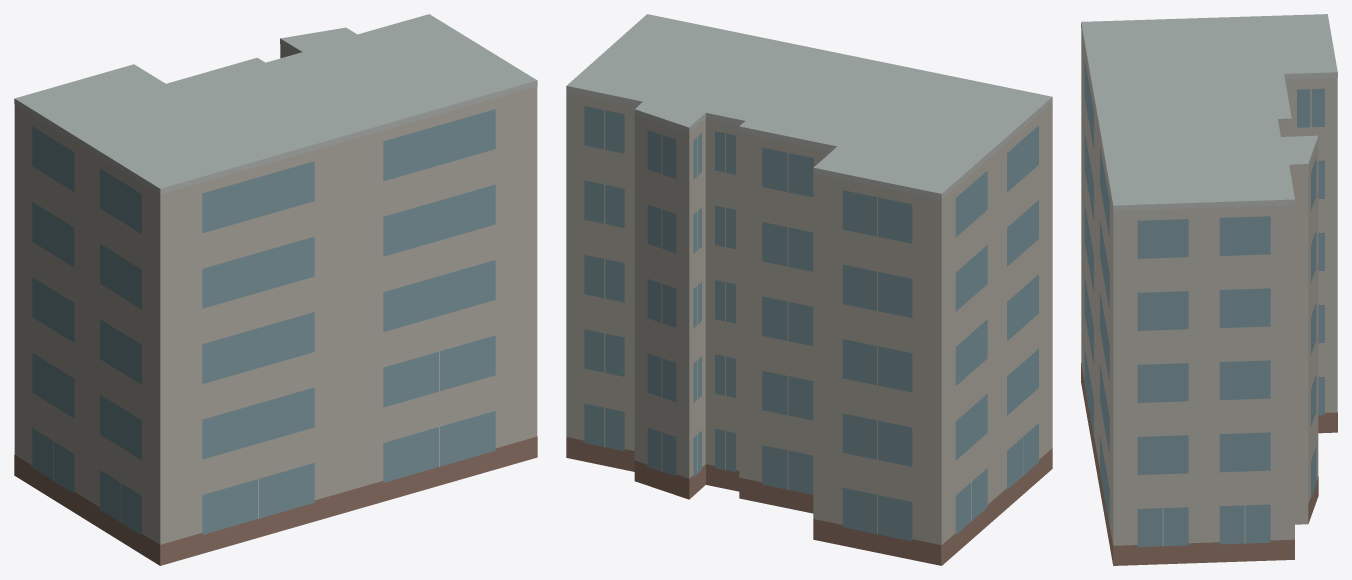
Rendered from survey-upis-32937671.glb.
3 renders of one model, left to right at view 1: azimuth 30°, elevation 25°; view 2: azimuth 150°, elevation 25°; view 3: azimuth 270°, elevation 25°, orthographic. The views are drawn at different scales.
Parts seen in each view (by area): view 1: survey-upis-32937671.tmp; view 2: survey-upis-32937671.tmp; view 3: survey-upis-32937671.tmp.
Boxes of the visible parts, <box> form: survey-upis-32937671.tmp: <box>14,14,537,565</box>; survey-upis-32937671.tmp: <box>566,14,1052,565</box>; survey-upis-32937671.tmp: <box>1081,14,1337,565</box>.
Size of the model in its own units: 18.03 by 15.8 by 10.21.
